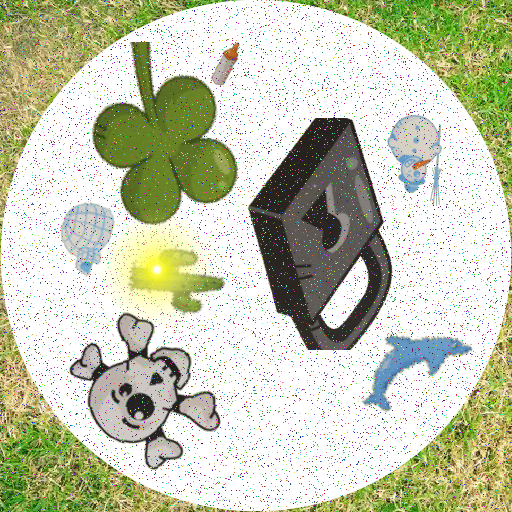bottle_icon: (203, 40, 251, 88)
cactus_icon: (124, 227, 226, 329)
cloverleaf_icon: (83, 42, 271, 230)
dolphin_icon: (351, 305, 474, 428)
igloo_icon: (51, 202, 126, 277)
lock_icon: (213, 118, 445, 350)
skull_icon: (52, 302, 228, 478)
snowman_icon: (377, 114, 469, 206)
